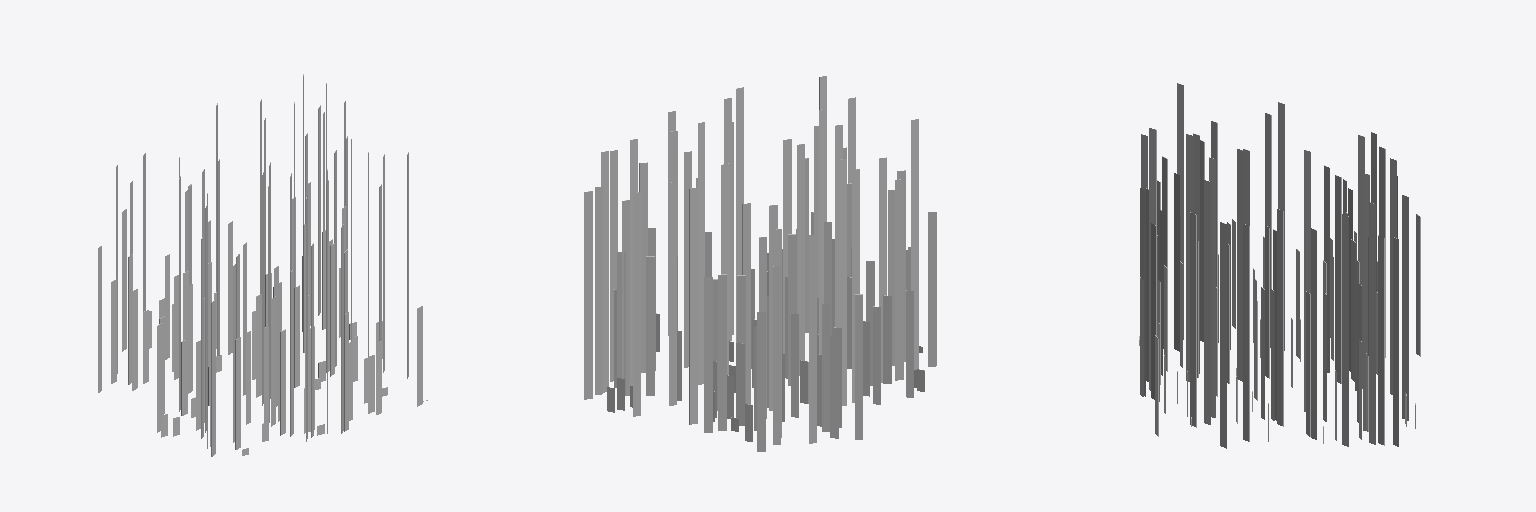
The model's file is grass_tall.obj.
3 renders of one model, left to right at view 1: azimuth 30°, elevation 25°; view 2: azimuth 150°, elevation 25°; view 3: azimuth 270°, elevation 25°, orthographic.
Parts seen in each view (by area): view 1: GrassBlade; view 2: GrassBlade; view 3: GrassBlade.
Boxes of the visible parts, box(x1,y1,x2,y2) form: GrassBlade: box(98, 74, 427, 456); GrassBlade: box(584, 76, 936, 451); GrassBlade: box(1139, 83, 1420, 448).
Bounding box in the file's own units: 1.02 × 1.01 × 0.9814.